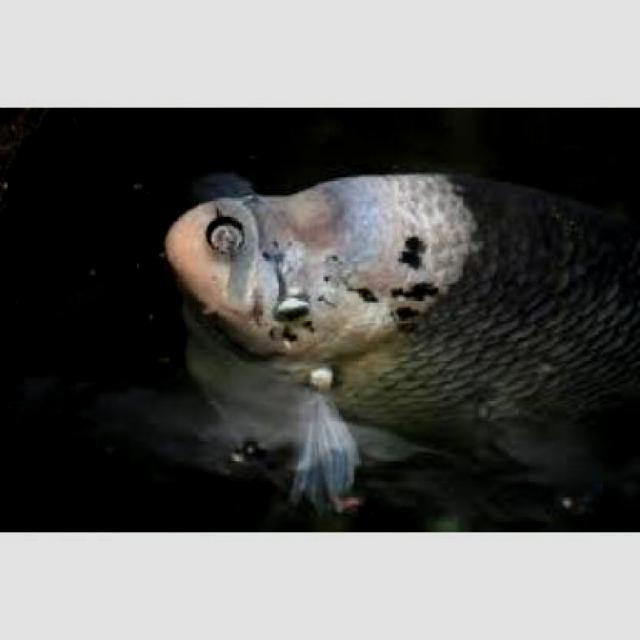gurame: (178, 150, 640, 502)
